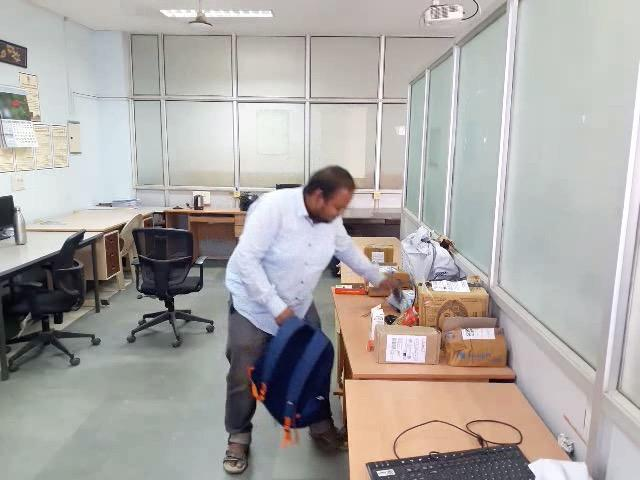shoplifting: (168, 239, 491, 449)
